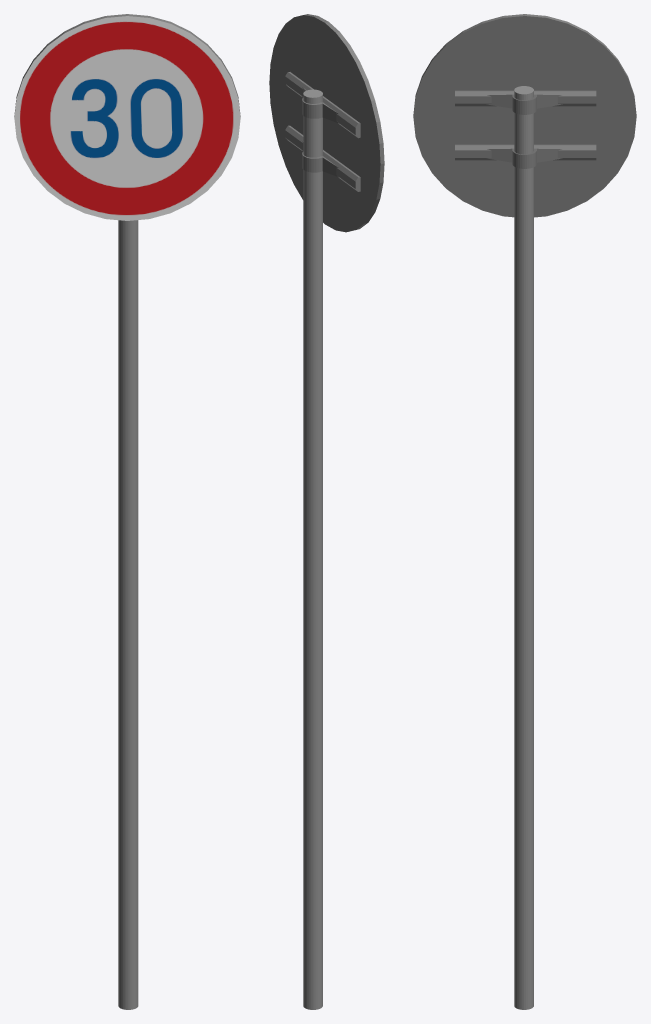
The picture shows the model from 3 angles, left to right: view 1: azimuth 90°, elevation 25°; view 2: azimuth 210°, elevation 25°; view 3: azimuth 270°, elevation 25°; orthographic projection.
Visible parts, largest first — view 1: 025-30, Prop; view 2: Prop, 025-30; view 3: 025-30, Prop.
Part boxes in pixels (x1,y1,x2,y2): 025-30: [14, 14, 240, 220]; Prop: [118, 220, 138, 1009]; Prop: [285, 72, 360, 1009]; 025-30: [269, 14, 384, 232]; 025-30: [413, 14, 636, 217]; Prop: [455, 86, 596, 1009].
Size of the model in its own units: 6.76 by 253 by 52.01.
